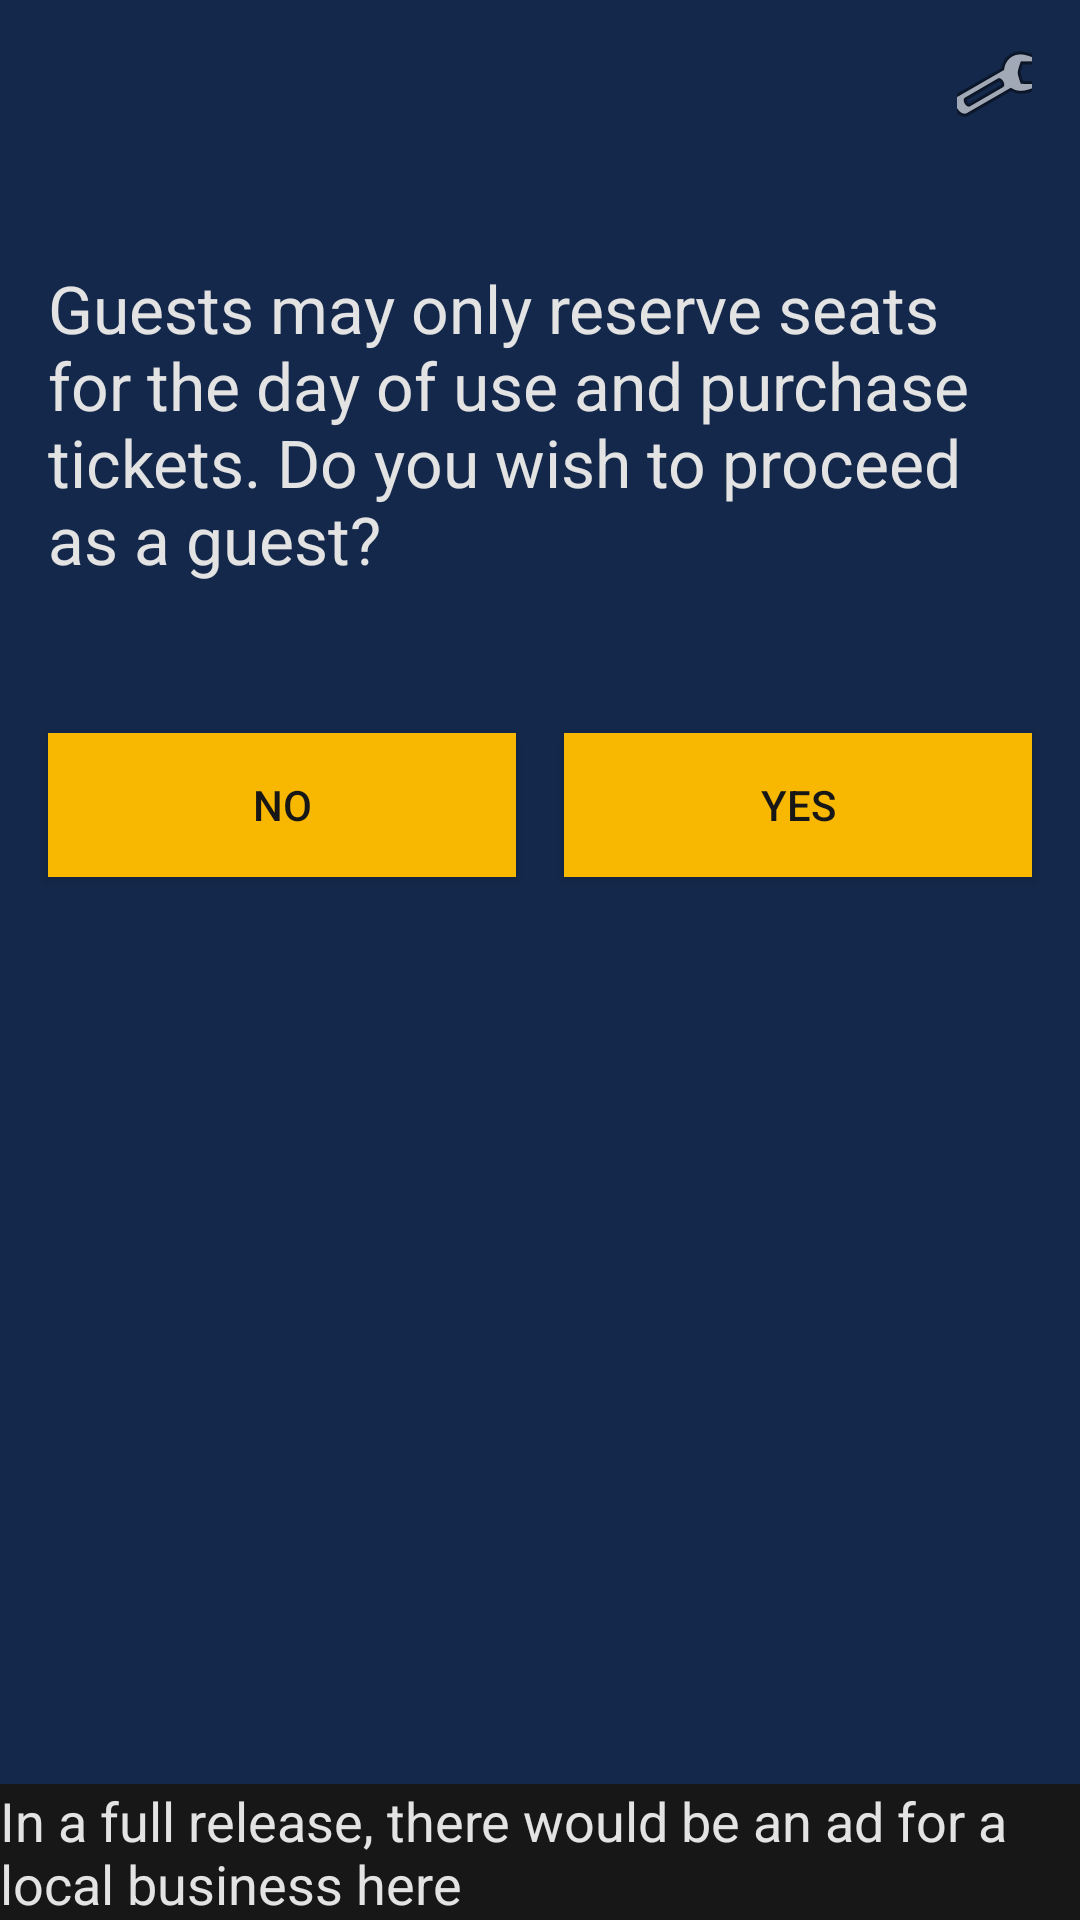

Named icons in this screenshot (1080x1920) and their bounding boxes, (x1, y1, x2, y2):
manage: (957, 52, 1032, 116)
